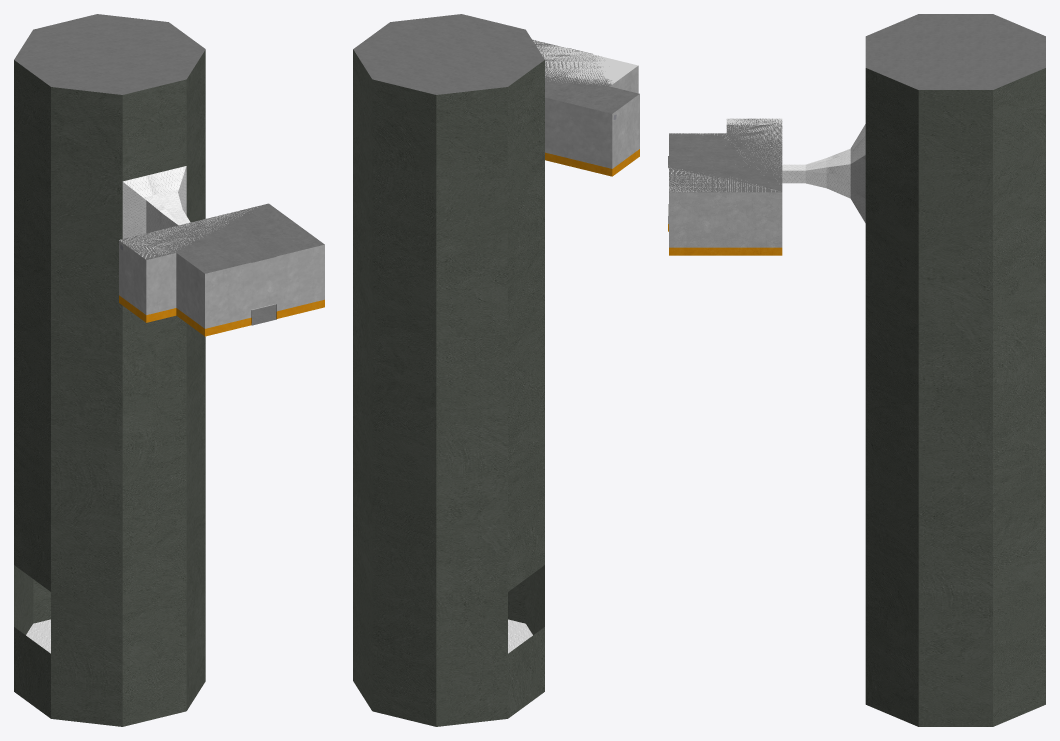
File: Room_16.fbx
3 renders of one model, left to right at view 1: azimuth 30°, elevation 25°; view 2: azimuth 150°, elevation 25°; view 3: azimuth 270°, elevation 25°, orthographic.
Parts seen in each view (by area): view 1: Cylinder.047, Cube.097, Cylinder.056, Cube.087, Cube.132; view 2: Cylinder.047, Cylinder.056, Cube.097, Cube.087, Cube.132; view 3: Cylinder.047, Cylinder.056, Cube.087, Cube.097, Cube.132.
Boxes of the visible parts, x1=… form: Cylinder.047: x1=14, y1=50, x2=205, y2=726; Cube.097: x1=119, y1=240, x2=324, y2=336; Cylinder.056: x1=14, y1=14, x2=205, y2=94; Cube.087: x1=120, y1=203, x2=324, y2=273; Cube.132: x1=119, y1=207, x2=257, y2=258; Cylinder.047: x1=353, y1=49, x2=544, y2=726; Cylinder.056: x1=353, y1=14, x2=544, y2=94; Cube.097: x1=545, y1=65, x2=639, y2=176; Cube.087: x1=532, y1=39, x2=639, y2=113; Cube.132: x1=533, y1=40, x2=637, y2=85; Cylinder.047: x1=805, y1=68, x2=1045, y2=726; Cylinder.056: x1=865, y1=14, x2=1045, y2=89; Cube.087: x1=668, y1=118, x2=782, y2=192; Cube.097: x1=668, y1=192, x2=782, y2=255; Cube.132: x1=668, y1=118, x2=782, y2=191.
Bounding box in the file's own units: 2616 × 10205 × 5487.
